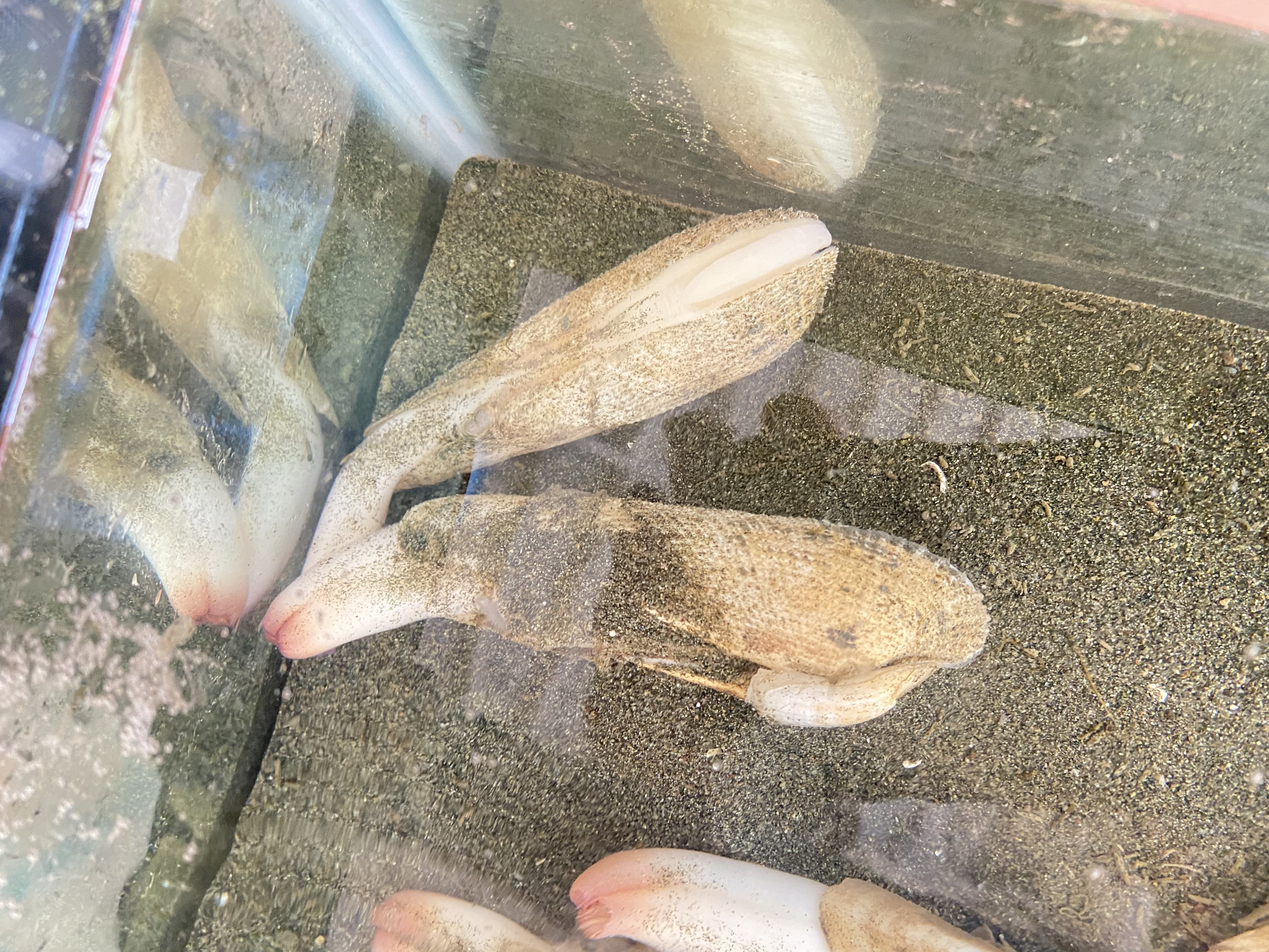Healthy: (304, 211, 836, 574), (273, 490, 988, 726), (570, 849, 991, 952), (372, 891, 554, 952)
